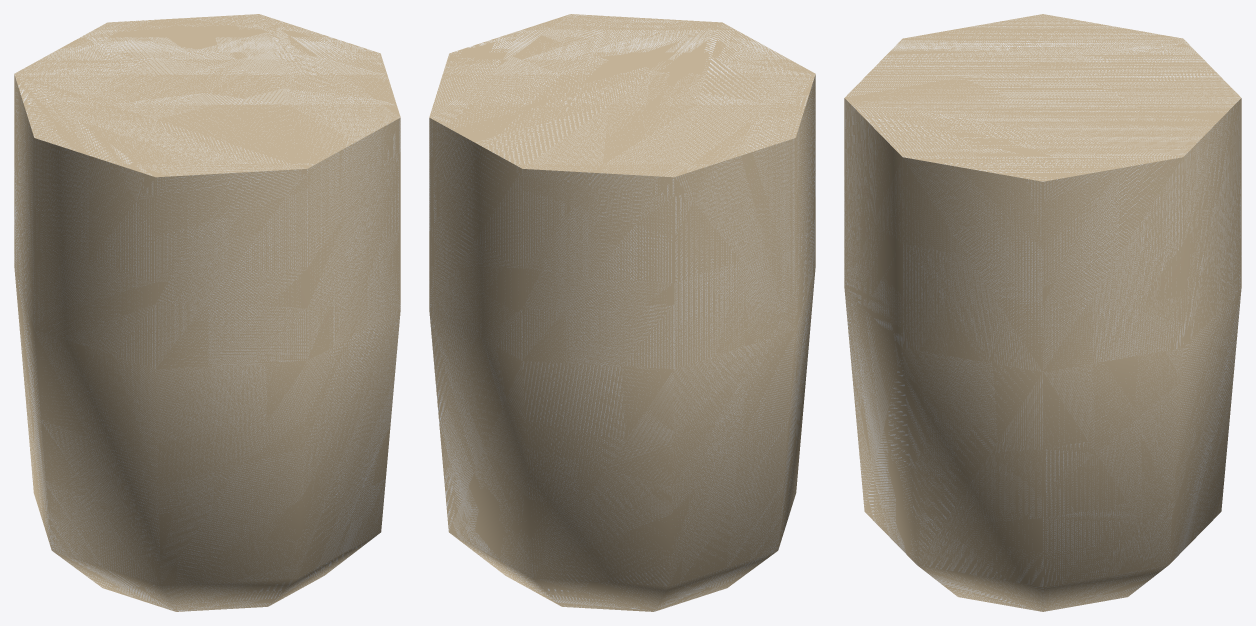
The model's file is original-21.obj.
3 renders of one model, left to right at view 1: azimuth 30°, elevation 25°; view 2: azimuth 150°, elevation 25°; view 3: azimuth 270°, elevation 25°, orthographic.
Visible parts, largest first — view 1: Group_22_7/Group_22/mesh9/mesh9-geometry#mesh9-geometry; view 2: Group_22_7/Group_22/mesh9/mesh9-geometry#mesh9-geometry; view 3: Group_22_7/Group_22/mesh9/mesh9-geometry#mesh9-geometry.
Part boxes in pixels (bbox=[...]): Group_22_7/Group_22/mesh9/mesh9-geometry#mesh9-geometry: bbox=[14, 14, 400, 611]; Group_22_7/Group_22/mesh9/mesh9-geometry#mesh9-geometry: bbox=[429, 14, 815, 611]; Group_22_7/Group_22/mesh9/mesh9-geometry#mesh9-geometry: bbox=[844, 14, 1241, 611].
Bounding box in the file's own units: 0.0121 × 0.0156 × 0.0121.
